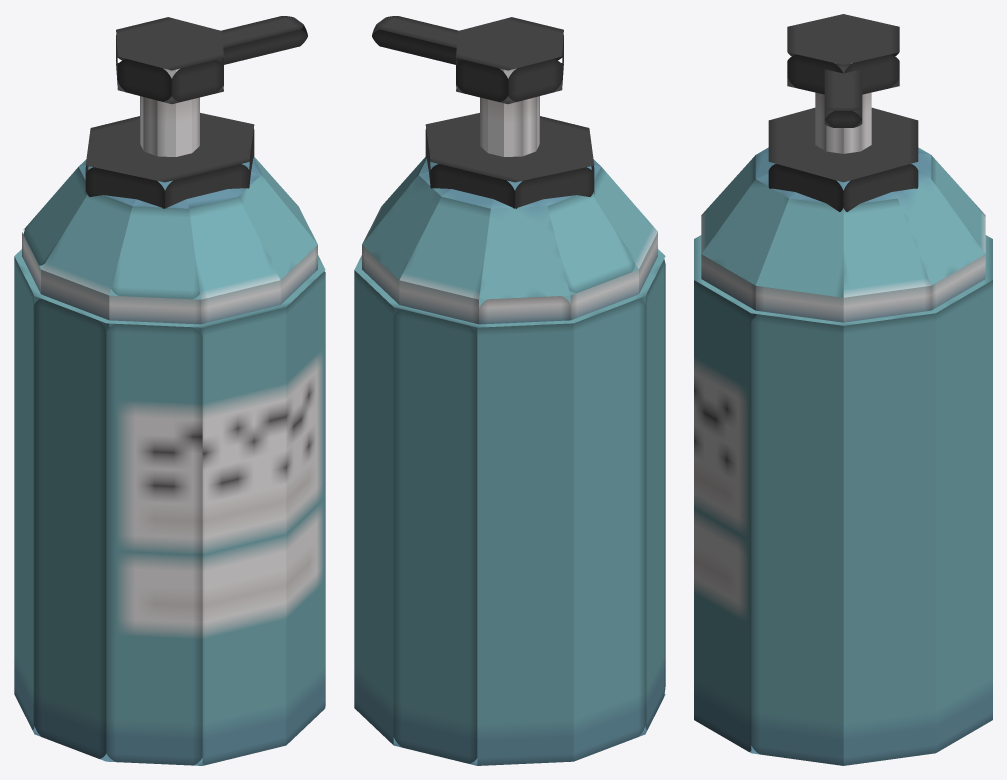
File: shampoobottle.fbx
3 views of the same model, side by side, from view 1: azimuth 30°, elevation 25°; view 2: azimuth 150°, elevation 25°; view 3: azimuth 270°, elevation 25° (orthographic).
Visible parts, largest first — view 1: cylinder, sphere, cylinder_1, cylinder_3, cylinder_2, cuboid; view 2: cylinder, sphere, cylinder_1, cylinder_3, cylinder_2, cuboid; view 3: cylinder, sphere, cylinder_1, cylinder_3, cuboid, cylinder_2.
Part boxes in pixels (x1,y1,x2,y2): cylinder: (14,249,325,765); sphere: (22,156,317,335); cylinder_1: (85,113,254,208); cylinder_3: (116,17,223,104); cylinder_2: (140,68,199,156); cuboid: (216,16,307,64); cylinder: (354,249,665,765); sphere: (362,156,657,334); cylinder_1: (425,113,594,208); cylinder_3: (456,17,563,104); cylinder_2: (480,68,539,156); cuboid: (372,16,463,64); cylinder: (694,235,992,765); sphere: (701,147,985,322); cylinder_1: (768,107,918,211); cylinder_3: (787,14,899,94); cuboid: (824,63,862,127); cylinder_2: (815,63,871,153).
Bounding box in the file's own units: 105 × 244 × 100.
1 material, 1 textured.
